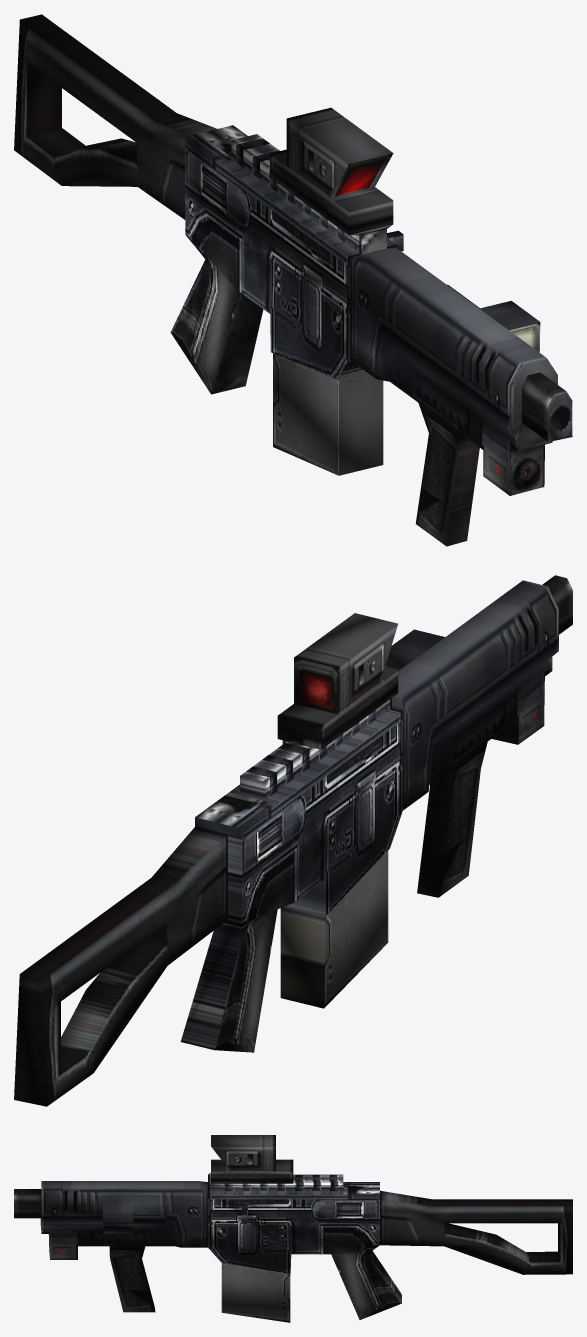
3 renders of one model, top to bottom at view 1: azimuth 30°, elevation 25°; view 2: azimuth 150°, elevation 25°; view 3: azimuth 270°, elevation 25°, orthographic. The views are drawn at different scales.
Visible parts, largest first — view 1: Trispread, Trispread01; view 2: Trispread, Trispread01; view 3: Trispread, Trispread01.
Part boxes in pixels (x1,y1,x2,y2): Trispread: (14,14,572,546); Trispread01: (273,353,383,475); Trispread: (14,575,572,1106); Trispread01: (280,850,388,1008); Trispread: (14,1135,572,1319); Trispread01: (221,1263,290,1322).
Size of the model in its own units: 3.5 by 12.67 by 36.39.
Materials: 1 (1 with a texture image).
